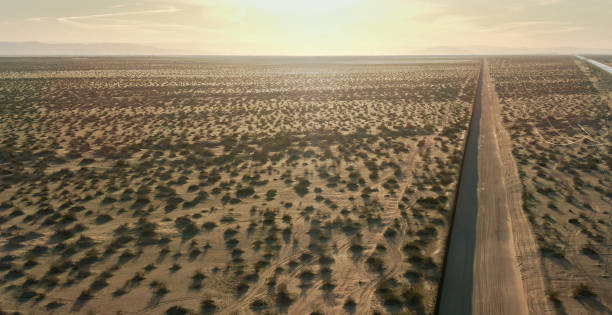vehicle_track: (438, 58, 527, 313), (490, 87, 551, 313), (352, 176, 412, 313), (220, 242, 307, 313)
